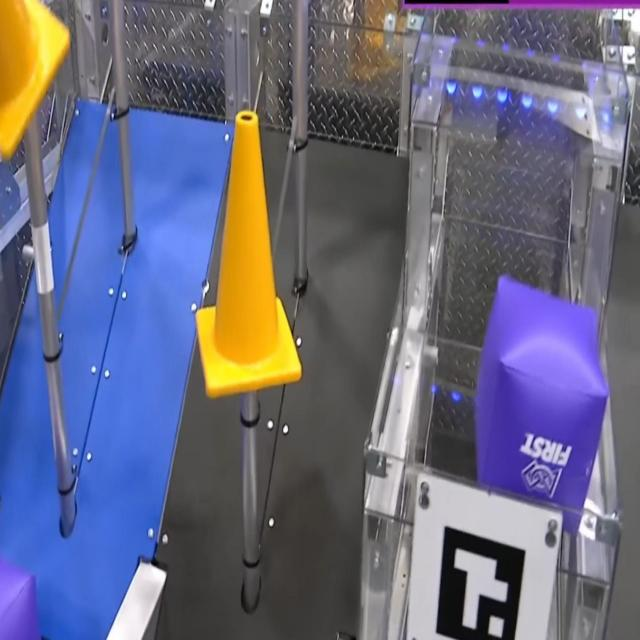frc_cone: (188, 109, 308, 401), (0, 0, 73, 163)
frc_cube: (470, 275, 609, 528), (0, 554, 41, 640)
